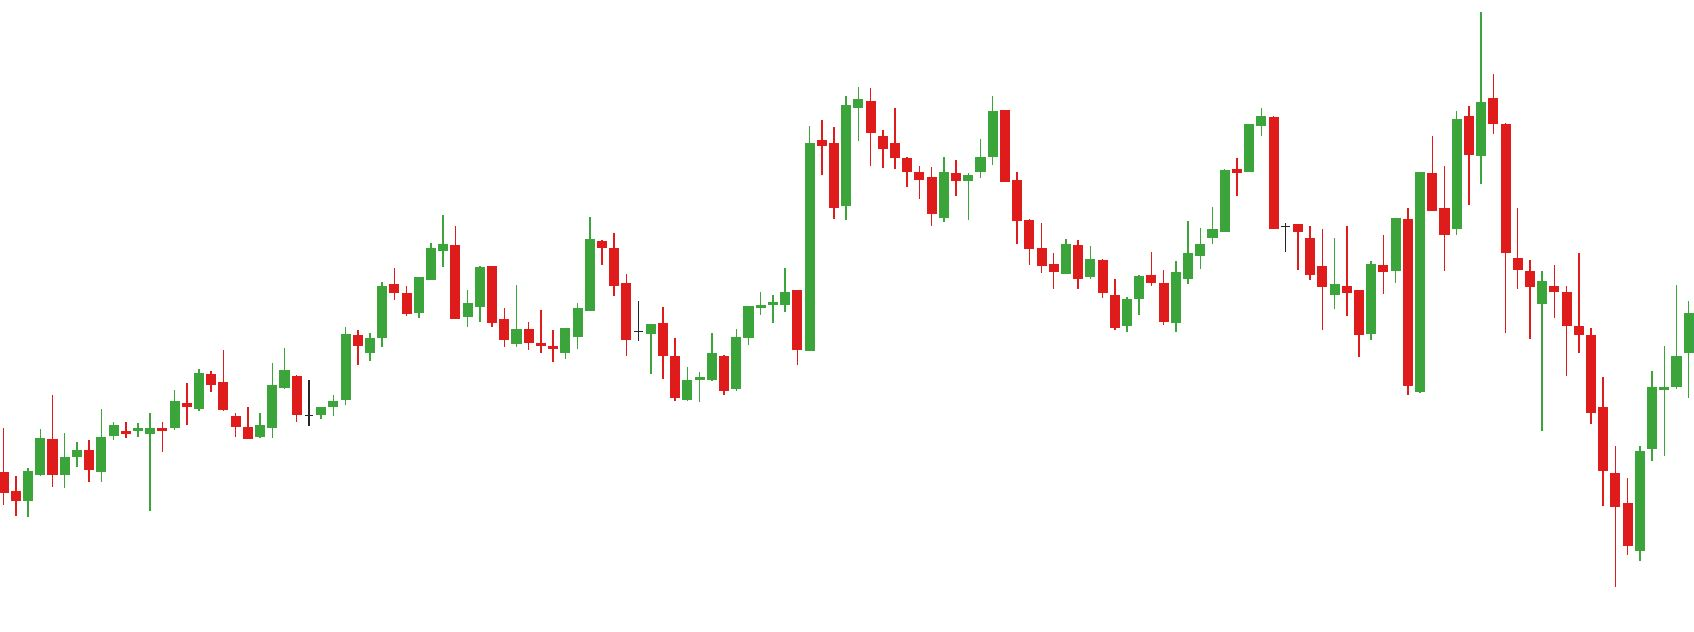buy: (1352, 251, 1430, 399), (32, 423, 157, 516)
sell: (474, 215, 622, 326), (888, 93, 1013, 177)
